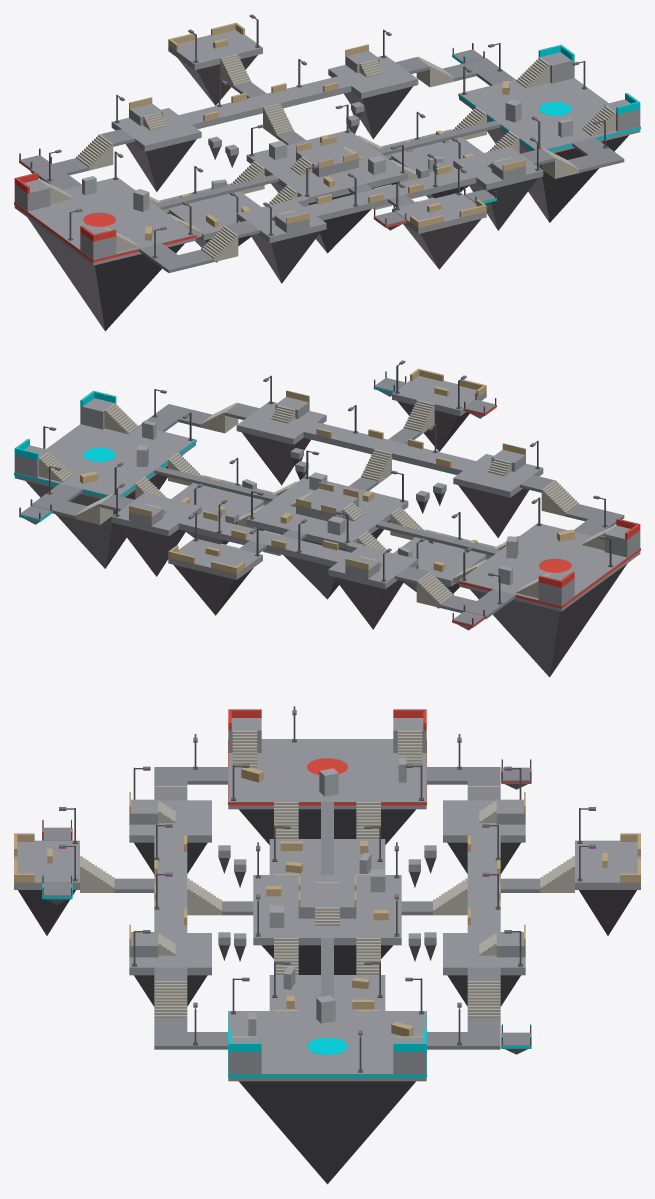
Rendered from ctf_void.glb.
3 renders of one model, top to bottom at view 1: azimuth 30°, elevation 25°; view 2: azimuth 150°, elevation 25°; view 3: azimuth 270°, elevation 25°, orthographic. The views are drawn at different scales.
Parts seen in each view (by area): view 1: Platforms, Structures, Underside, Cover; view 2: Platforms, Structures, Underside, Cover; view 3: Platforms, Structures, Underside, Cover.
Part boxes in pixels (<box>): Platforms: <box>14,30,640,272</box>; Structures: <box>14,14,640,265</box>; Underside: <box>27,55,628,331</box>; Cover: <box>82,38,572,240</box>; Platforms: <box>14,376,640,618</box>; Structures: <box>14,360,640,611</box>; Underside: <box>26,401,627,677</box>; Cover: <box>80,386,574,585</box>; Platforms: <box>14,739,640,1081</box>; Structures: <box>14,706,640,1081</box>; Underside: <box>18,809,636,1184</box>; Cover: <box>47,757,607,1036</box>.
Bounding box in the file's own units: 96.12 × 29.65 × 76.
